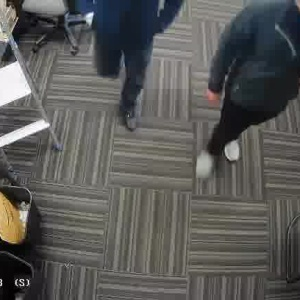person: (193, 0, 300, 177), (83, 0, 163, 128)
